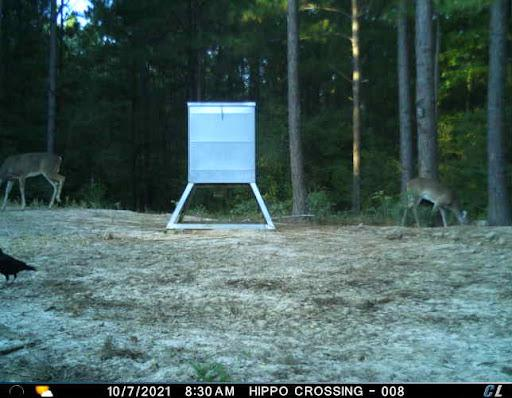Deer: (397, 172, 474, 235), (0, 146, 73, 210)
